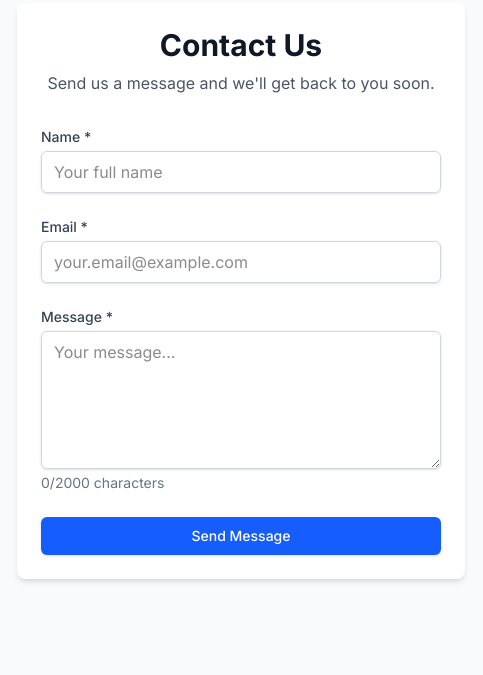
Test: Contact Page › Form Rendering › should show validation error for invalid email
Fill in the form with invalid email
Type "Test Name" into the field labelled "Name *".
click(241, 172); type("Test Name")  # box [41, 151, 441, 193]
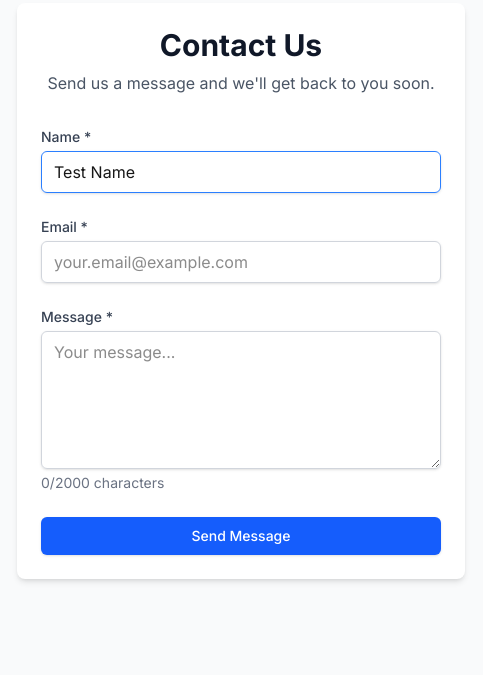
Type "invalid-email" into the field labelled "Email *".
click(241, 262); type("invalid-email")  # box [41, 241, 441, 283]
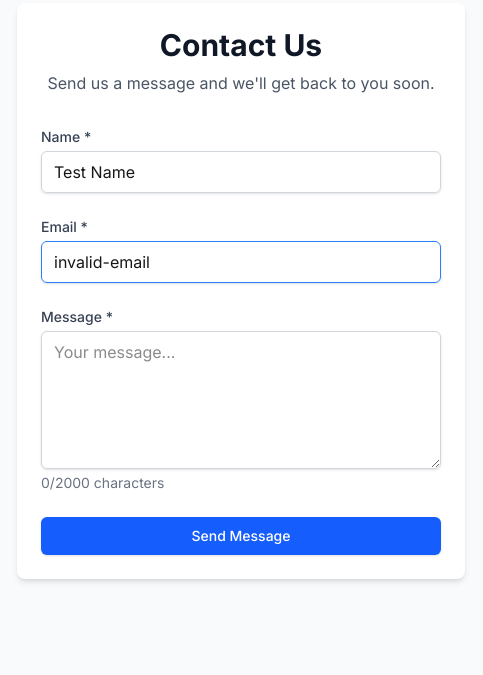
Type "Test message" into the text box labelled "Message *".
click(241, 400); type("Test message")  # box [41, 331, 441, 469]
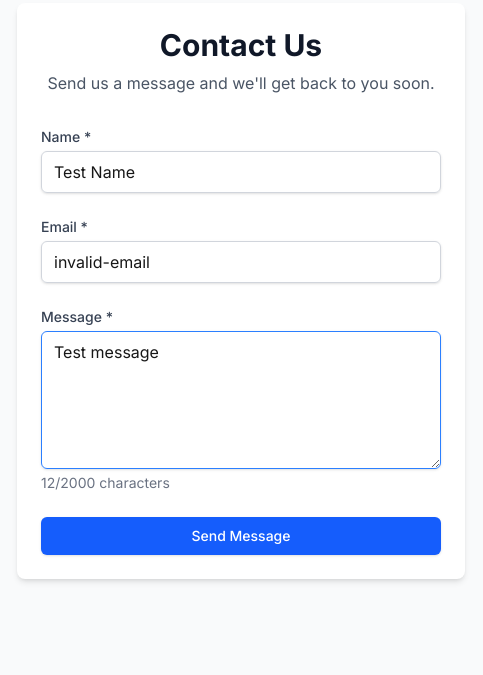
Click the button "Send Message".
click(241, 536)  # box [41, 517, 441, 555]
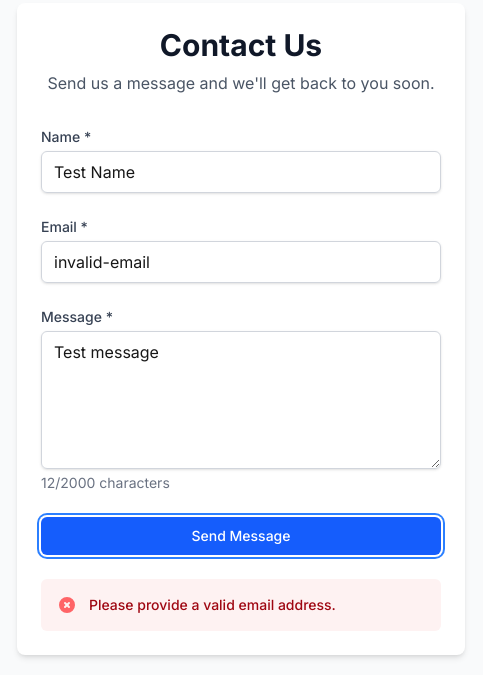
Check: the text "Please provide a valid email address." is shown, box [89, 595, 336, 615]
